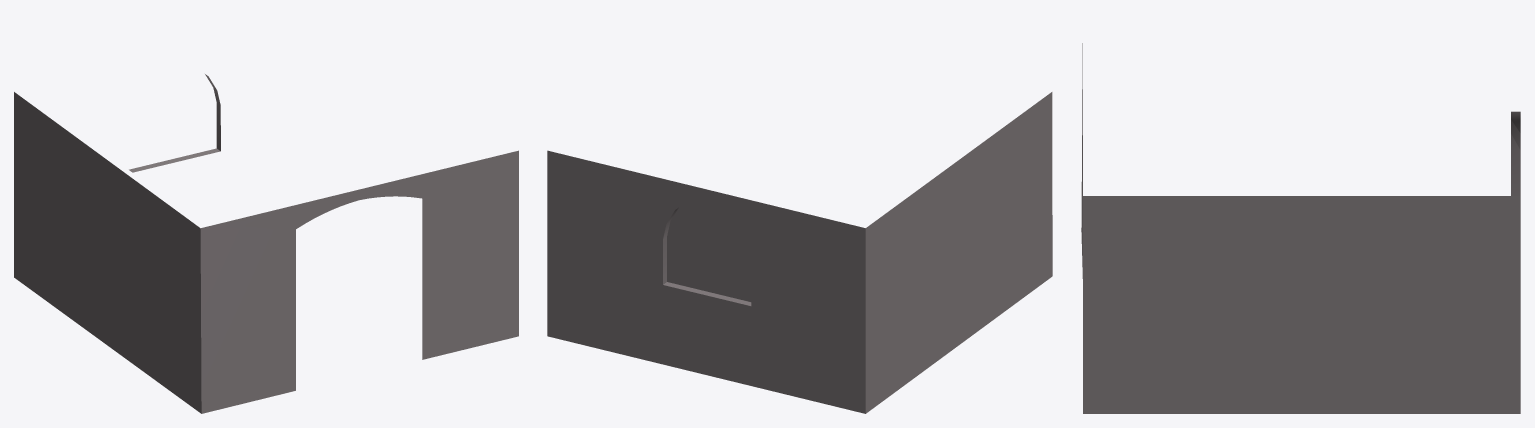
File: material3.023_lev3.glb
3 views of the same model, side by side, from view 1: azimuth 30°, elevation 25°; view 2: azimuth 150°, elevation 25°; view 3: azimuth 270°, elevation 25° (orthographic). The views are drawn at different scales.
Parts seen in each view (by area): view 1: material3.023_lev3; view 2: material3.023_lev3; view 3: material3.023_lev3.
Part boxes in pixels (left/top/right/bottom): material3.023_lev3: left=14, top=74, right=518, bottom=413; material3.023_lev3: left=547, top=92, right=1052, bottom=413; material3.023_lev3: left=1081, top=43, right=1520, bottom=413.
Bounding box in the file's own units: 0.5214 × 0.2908 × 0.5311.
1 material, 1 textured.
